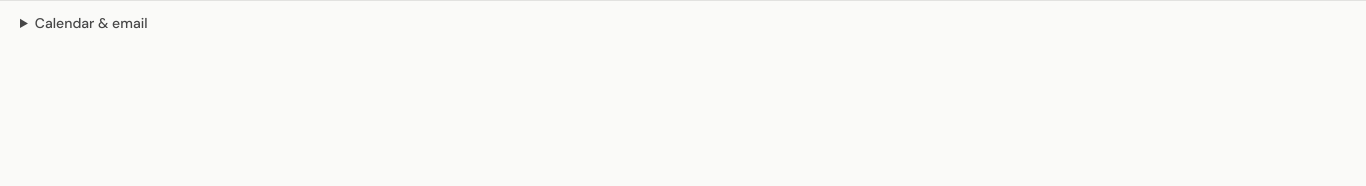
Test: announces successful email delivery separately from failure feedback
Step 1. Click the heading "Calendar & email" → (91, 23), box x1=35 y1=14 x2=148 y2=32
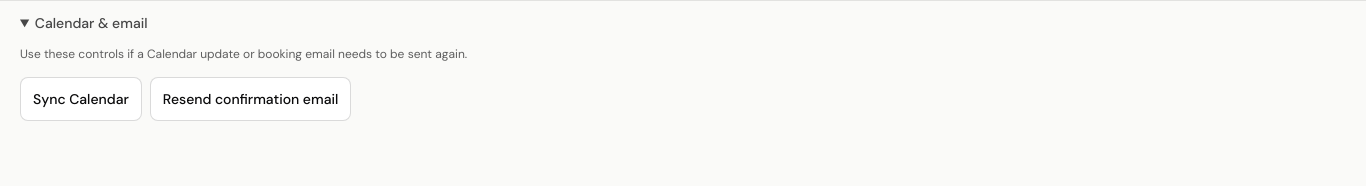
Step 2. Click the button "Resend confirmation email" → (251, 98), box x1=150 y1=76 x2=351 y2=120
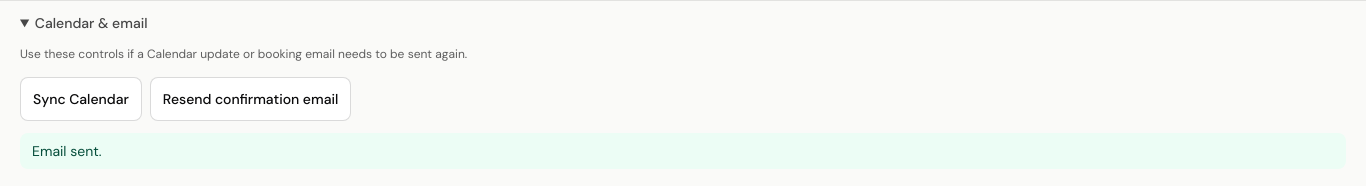
Result: the message reads "Email sent." at x1=32 y1=142 x2=102 y2=160
